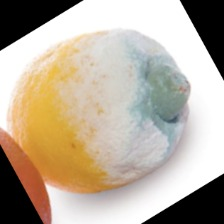orange: (14, 20, 193, 175)
